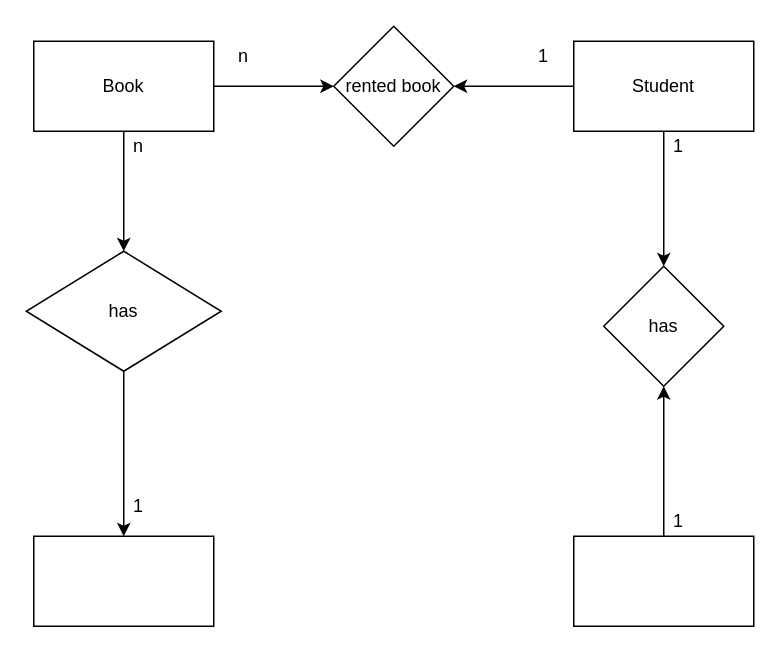
Some shapes in this 780 by 653 pixel diagram are drawn without their labels. Here are the shapes that lost their labels. From the top down, the centre of each, then its label:
At (123,580): "catelory".
At (663,580): "Borrow order".
